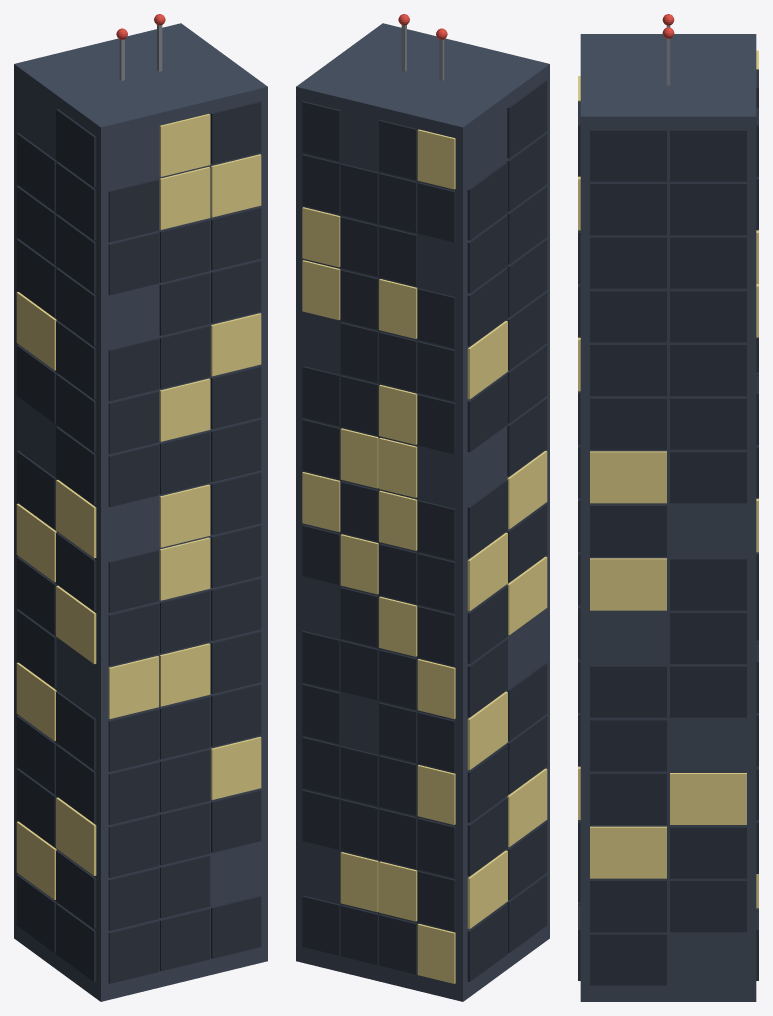
The model's file is Building_B.fbx.
The picture shows the model from 3 angles, left to right: view 1: azimuth 30°, elevation 25°; view 2: azimuth 150°, elevation 25°; view 3: azimuth 270°, elevation 25°; orthographic projection.
Parts seen in each view (by area): view 1: Building_B_TwinAntenna; view 2: Building_B_TwinAntenna; view 3: Building_B_TwinAntenna.
Part boxes in pixels (bbox=[...]): Building_B_TwinAntenna: bbox=[14, 14, 267, 1001]; Building_B_TwinAntenna: bbox=[296, 14, 549, 1001]; Building_B_TwinAntenna: bbox=[578, 14, 758, 1001].
Bounding box in the file's own units: 205 × 1064 × 185.
